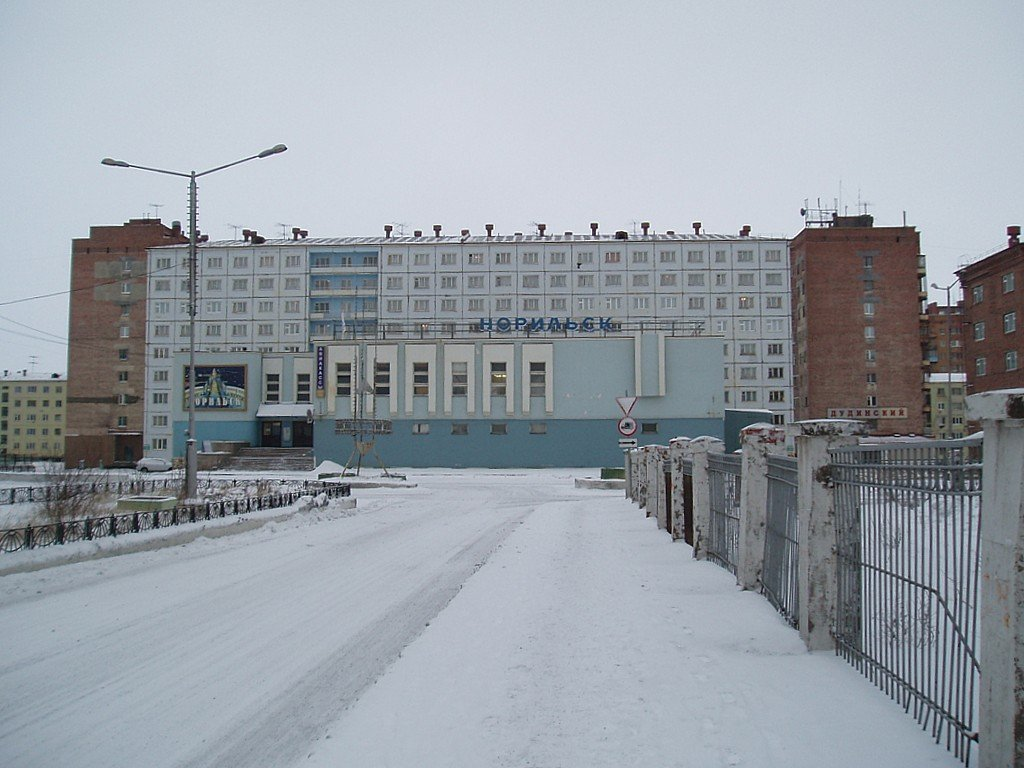sign: (614, 395, 639, 417), (618, 416, 638, 436), (616, 436, 639, 448)
